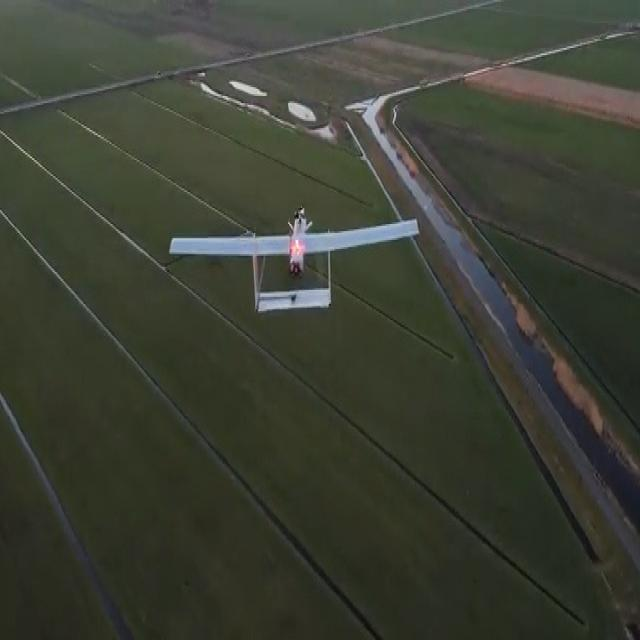drones: (167, 198, 424, 317)
